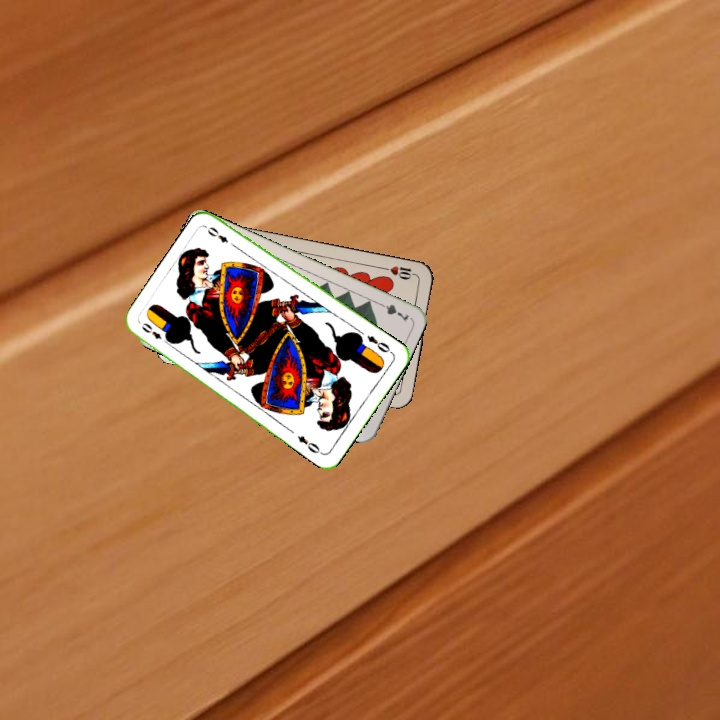EO: (137, 319, 172, 348), (363, 331, 395, 356)
G7: (373, 298, 412, 324)
H10: (379, 262, 419, 282)
